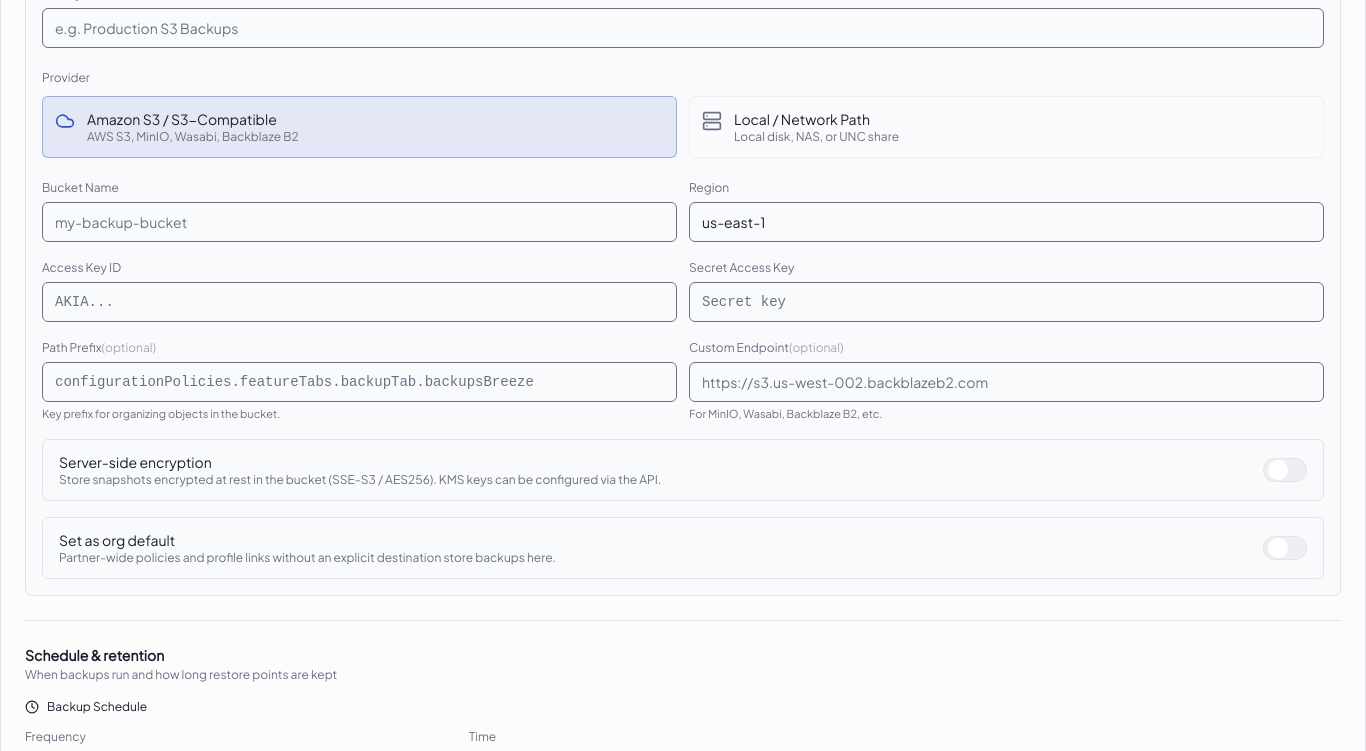
Test: BackupTab › auto-fills the region from an S3-compatible endpoint
(page scrolled)
Expected: the field with placeholder "e.g. Production S3 Backups" is shown, x1=42 y1=8 x2=1324 y2=48
Type "s3.us-west-004.backblazeb2.com" into the field with placeholder "https://s3.us-west-002.backblazeb2.com" at (1006, 382), box x1=689 y1=362 x2=1324 y2=402
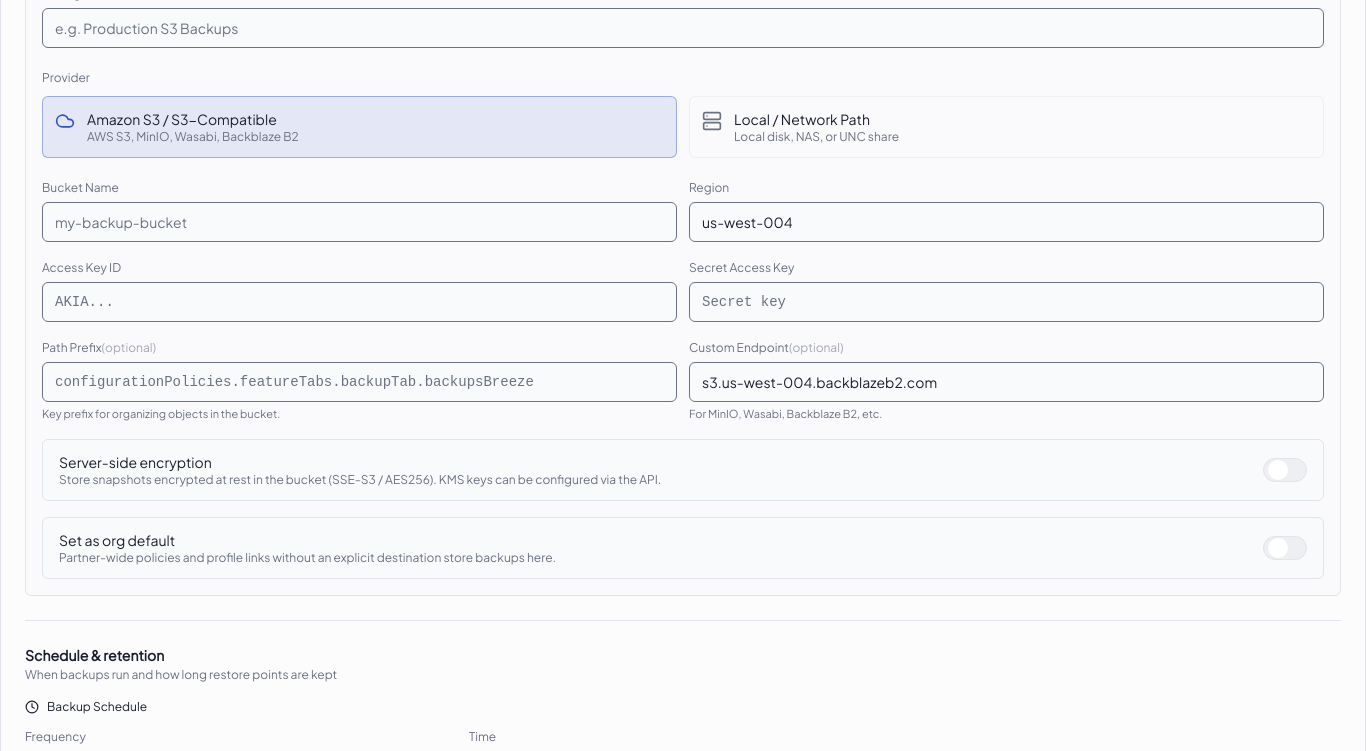
Now the field with placeholder "us-east-1" below "Region" holds "us-west-004", box x1=689 y1=202 x2=1324 y2=242
